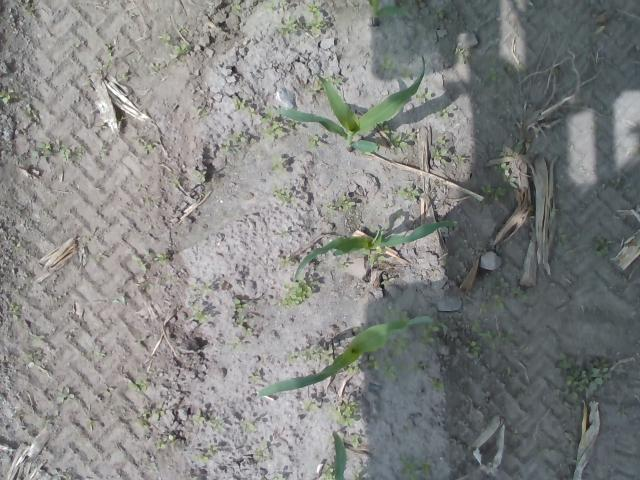Maize: (252, 313, 436, 398), (273, 56, 427, 157), (290, 215, 456, 281), (362, 0, 412, 25), (331, 426, 348, 480)
Weeds: (556, 348, 613, 408), (476, 322, 521, 346), (380, 123, 416, 151), (282, 278, 314, 307), (288, 346, 334, 364), (156, 32, 192, 54), (496, 276, 528, 300), (418, 321, 449, 345), (493, 162, 517, 190), (368, 359, 400, 380), (303, 3, 325, 33), (259, 114, 283, 140), (136, 407, 164, 429), (134, 253, 170, 270), (390, 334, 414, 359), (324, 196, 356, 214), (24, 336, 42, 368), (338, 402, 360, 426), (224, 130, 248, 152), (478, 184, 507, 202), (401, 454, 420, 480), (428, 138, 448, 160), (592, 236, 610, 258), (430, 376, 452, 394), (193, 446, 216, 463), (154, 434, 180, 449), (479, 294, 503, 310), (609, 176, 632, 192), (551, 228, 568, 249), (281, 17, 298, 36), (32, 142, 52, 158), (367, 250, 387, 266), (270, 188, 292, 201), (410, 361, 427, 377), (264, 0, 286, 12), (304, 134, 320, 150), (326, 76, 344, 90), (58, 144, 72, 162), (398, 186, 419, 198), (468, 339, 482, 357), (434, 108, 451, 122), (483, 67, 498, 82), (56, 391, 73, 404), (232, 296, 244, 314), (382, 274, 398, 287), (192, 310, 209, 322), (128, 378, 145, 390), (422, 460, 432, 480), (102, 48, 111, 70), (304, 399, 316, 414), (0, 91, 12, 106), (230, 2, 242, 16), (452, 155, 466, 167), (348, 362, 362, 374), (192, 415, 205, 427), (112, 294, 126, 305), (270, 471, 286, 480), (432, 8, 444, 20), (100, 142, 108, 159), (141, 142, 153, 153), (234, 98, 246, 109), (350, 435, 360, 447), (270, 158, 280, 170), (192, 106, 204, 115), (382, 57, 391, 69), (8, 303, 18, 313), (150, 61, 160, 71)
